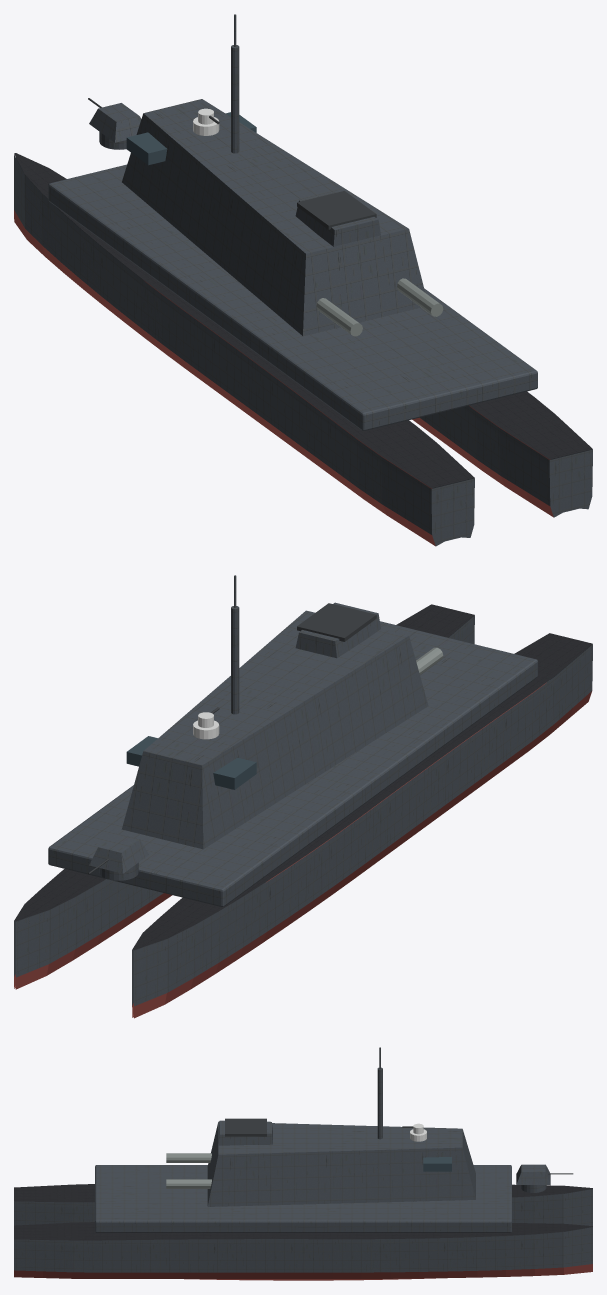
The model's file is type_tuochiang.glb.
The picture shows the model from 3 angles, top to bottom: view 1: azimuth 30°, elevation 25°; view 2: azimuth 150°, elevation 25°; view 3: azimuth 270°, elevation 25°; orthographic projection. The views are drawn at different scales.
Visible parts, largest first — view 1: tc_deck, tc_hull_-1, tc_super, tc_hull_1, tc_funnel_top, tc_funnel, tc_gun_turret, tc_win, tc_mast_m, tc_assm_1_0; view 2: tc_super, tc_hull_-1, tc_deck, tc_hull_1, tc_funnel_top, tc_funnel, tc_gun_turret, tc_win, tc_mast_m; view 3: tc_hull_1, tc_super, tc_deck, tc_hull_-1, tc_funnel_top, tc_funnel, tc_gun_turret, tc_assm_-1_0, tc_assm_1_0, tc_win, tc_mast_m.
Boxes of the visible parts, x1,y1,x2,y2 form: tc_deck: (48,164,537,430); tc_hull_-1: (14,153,474,546); tc_super: (122,99,424,335); tc_hull_1: (412,391,592,517); tc_funnel_top: (297,191,376,229); tc_funnel: (295,191,380,246); tc_gun_turret: (89,103,141,142); tc_win: (126,112,256,165); tc_mast_m: (231,45,239,153); tc_assm_1_0: (397,279,443,316); tc_super: (121,610,428,849); tc_hull_-1: (132,633,592,1018); tc_deck: (48,621,537,906); tc_hull_1: (14,604,474,989); tc_funnel_top: (297,603,376,641); tc_funnel: (295,602,380,658); tc_gun_turret: (89,833,148,873); tc_win: (126,736,256,789); tc_mast_m: (231,606,239,714); tc_hull_1: (14,1222,592,1280); tc_super: (207,1121,475,1206); tc_deck: (95,1165,511,1232); tc_hull_-1: (14,1184,592,1225); tc_funnel_top: (225,1118,266,1136); tc_funnel: (218,1120,272,1145); tc_gun_turret: (516,1164,550,1184); tc_assm_-1_0: (166,1153,210,1162); tc_assm_1_0: (166,1179,210,1188); tc_win: (423,1157,451,1171); tc_mast_m: (377,1067,382,1139).
Bounding box in the file's own units: 14 × 24.2 × 60.4.
Materials: 7 (2 with a texture image).
